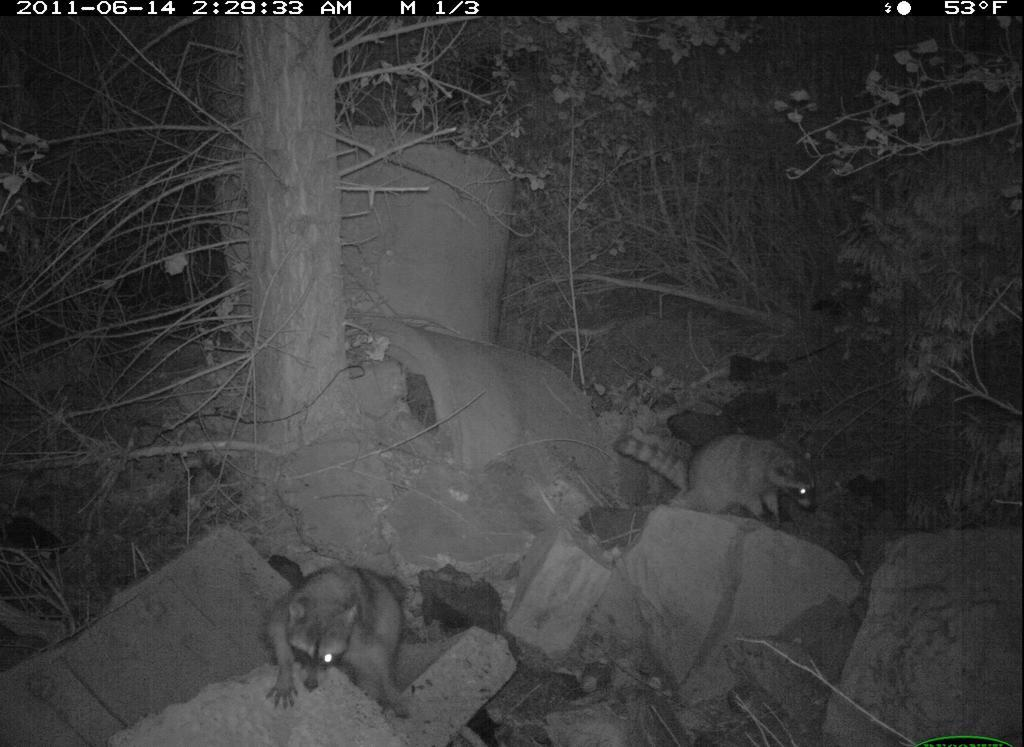raccoon: (616, 418, 848, 536), (262, 556, 425, 721)
